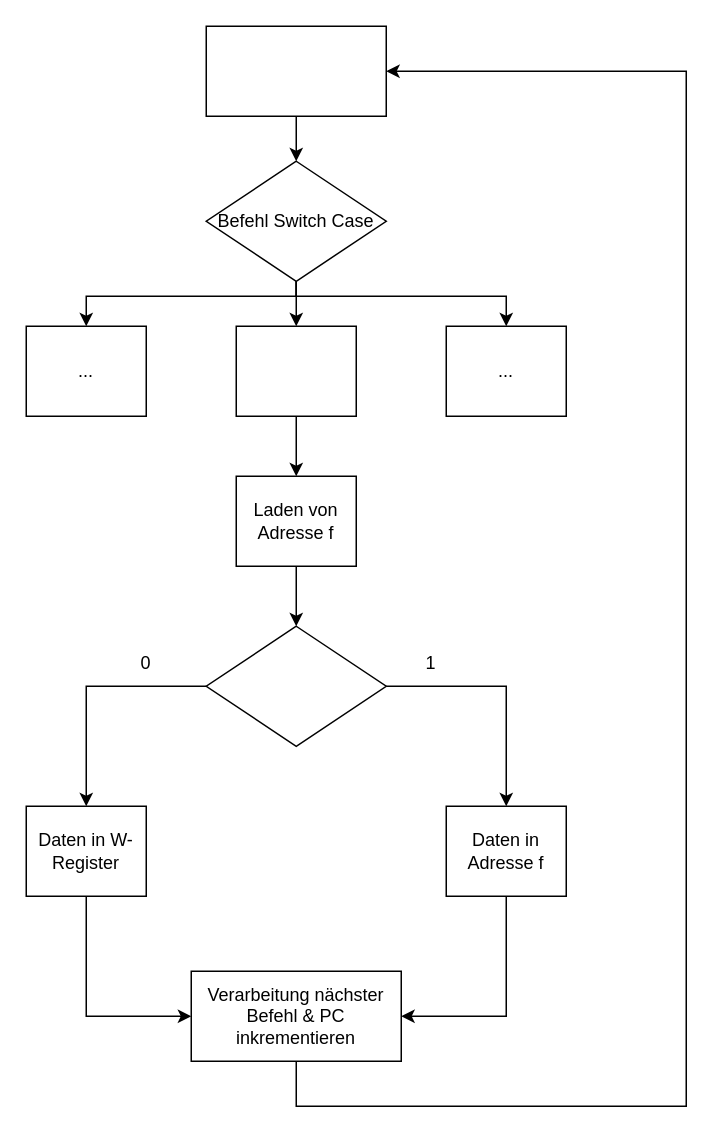
The diagram is 725 pixels wide and 1145 high, and some of its shapes have lost their labels. Each missing label, with the centre of its shape:
"Abarbeitung eines Befehls" belongs at (295,70).
"Destinationbit" belongs at (295,685).
"MOVF" belongs at (295,370).
